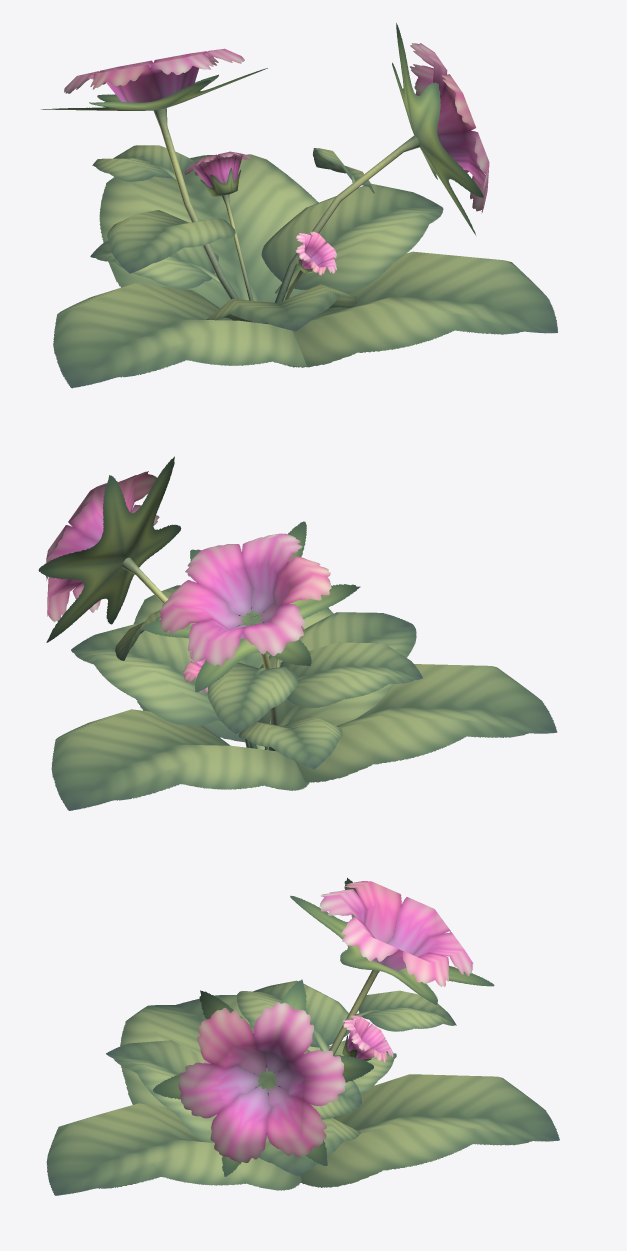
File: ENV1110010.FBX
3 renders of one model, top to bottom at view 1: azimuth 30°, elevation 25°; view 2: azimuth 150°, elevation 25°; view 3: azimuth 270°, elevation 25°, orthographic. The views are drawn at different scales.
Parts seen in each view (by area): view 1: smENV1110010; view 2: smENV1110010; view 3: smENV1110010.
Part boxes in pixels (box(x1,y1,x2,y2)): smENV1110010: box(41, 23, 557, 388); smENV1110010: box(38, 456, 557, 810); smENV1110010: box(46, 877, 559, 1195).
Size of the model in its own units: 23.01 by 12.66 by 24.81.
1 material, 1 textured.
